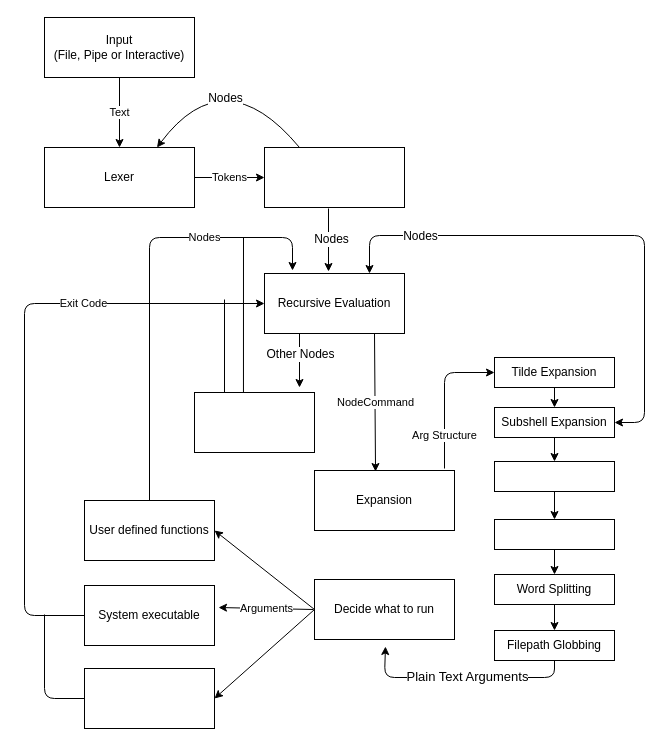
This 671x746 diagram has some shape labels left out. Each missing label, with the centre of its shape:
Arithmetic Substitution: (554,476)
Builtin functions: (149,698)
Node Logic Should child nodes be evaluated: (254,422)
Parser: (334,177)
Variable Substition: (554,534)
